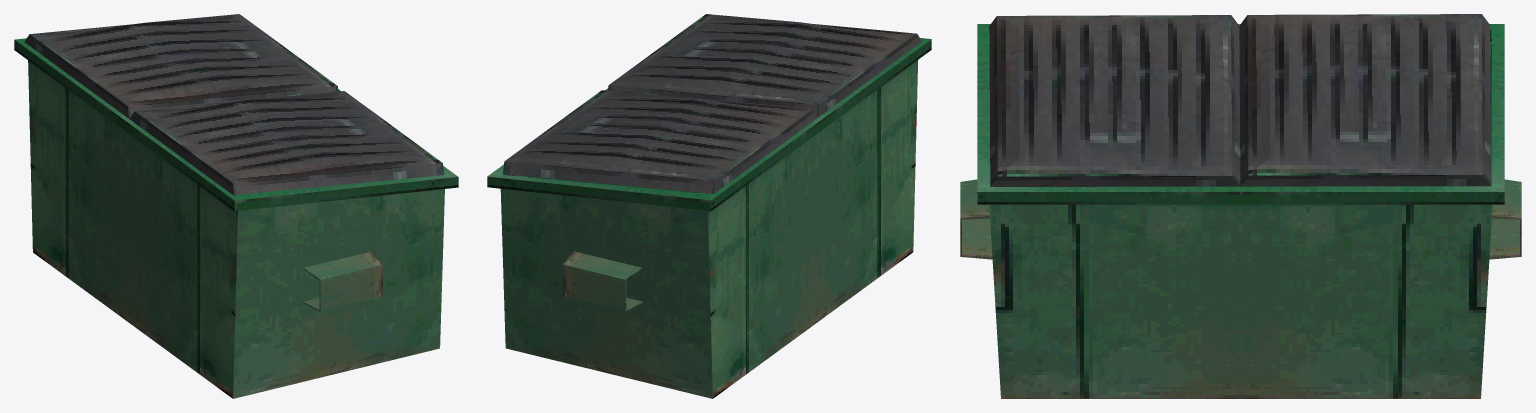
The model's file is dumpster_diagonal_closed.glb.
3 views of the same model, side by side, from view 1: azimuth 30°, elevation 25°; view 2: azimuth 150°, elevation 25°; view 3: azimuth 270°, elevation 25° (orthographic). The views are drawn at different scales.
Parts seen in each view (by area): view 1: dumpster_diagonal_closed; view 2: dumpster_diagonal_closed; view 3: dumpster_diagonal_closed.
Part boxes in pixels (bbox=[...]): dumpster_diagonal_closed: bbox=[14, 14, 458, 398]; dumpster_diagonal_closed: bbox=[487, 14, 931, 398]; dumpster_diagonal_closed: bbox=[960, 14, 1521, 398].
Size of the model in its own units: 2.03 by 1.89 by 3.67.
Materials: 1 (1 with a texture image).
